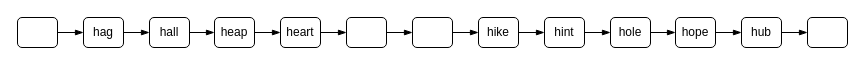
Image size: 865x65. Some labels were removed from this diagram. The centre of each missing label's shape, as x and y in pixels:
"habit" goes at pixel 37 32.
"heat" goes at pixel 366 32.
"hero" goes at pixel 432 32.
"hull" goes at pixel 827 32.
